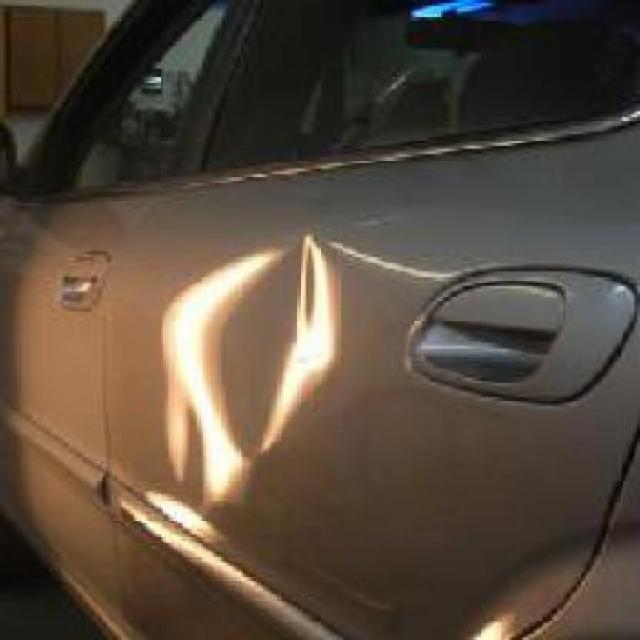dent-or-scratch: (144, 163, 358, 503)
